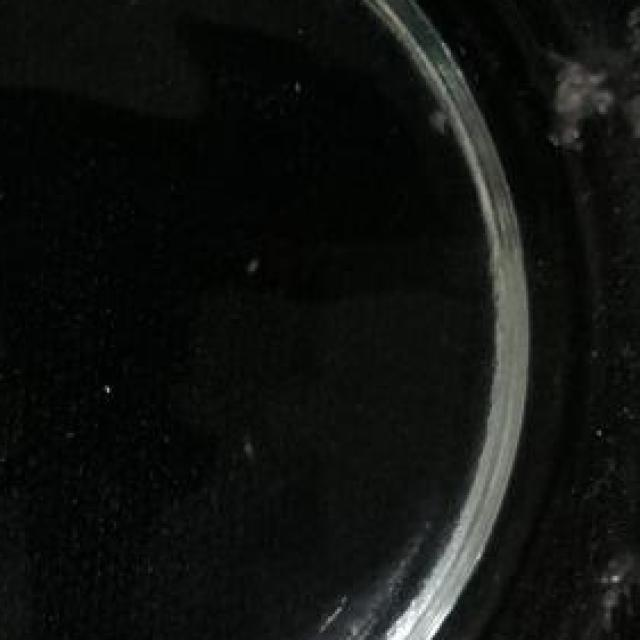Microplastic: (549, 0, 640, 190)
